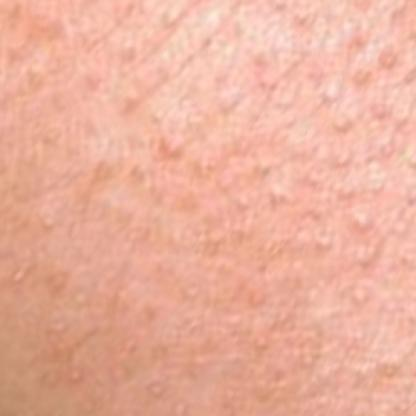Chicken Skin: (1, 0, 414, 415)
